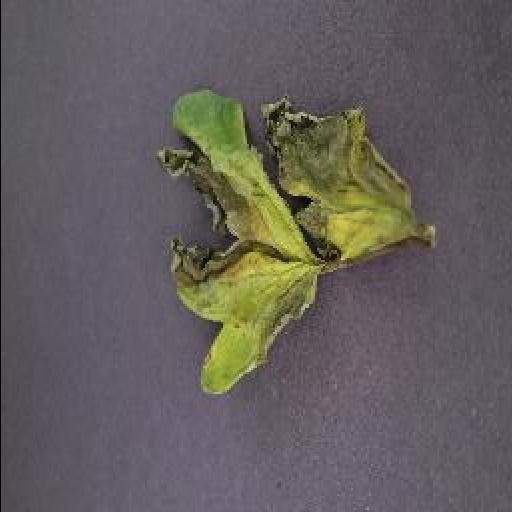disease_tomato: (154, 94, 426, 398)
